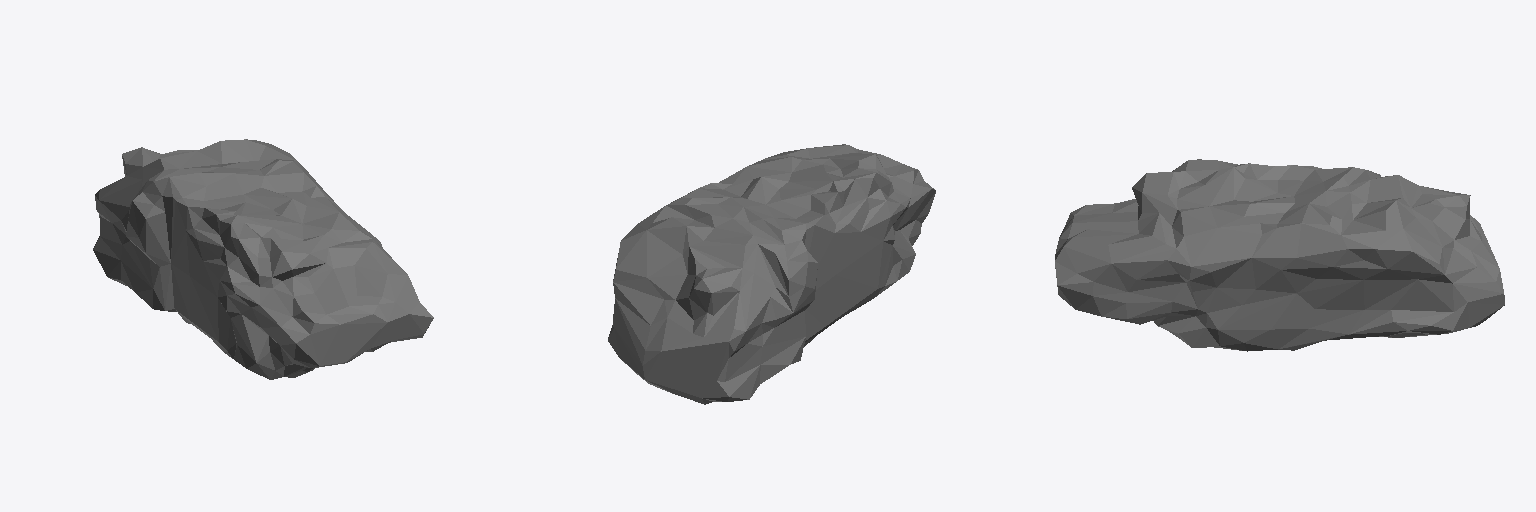
Rendered from rock1.obj.
3 views of the same model, side by side, from view 1: azimuth 30°, elevation 25°; view 2: azimuth 150°, elevation 25°; view 3: azimuth 270°, elevation 25° (orthographic).
Visible parts, largest first — view 1: Rock_9; view 2: Rock_9; view 3: Rock_9.
Boxes of the visible parts, x1=… form: Rock_9: x1=93, y1=139, x2=433, y2=379; Rock_9: x1=608, y1=144, x2=935, y2=404; Rock_9: x1=1055, y1=159, x2=1504, y2=351.
Bounding box in the file's own units: 19.27 × 15.2 × 45.52.